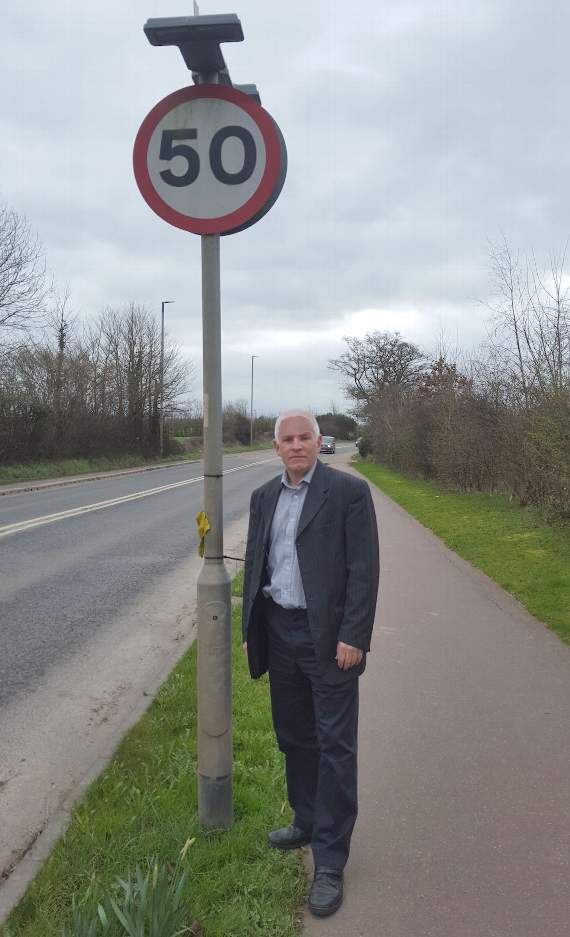Speed_limit_50km: (129, 86, 288, 236)
